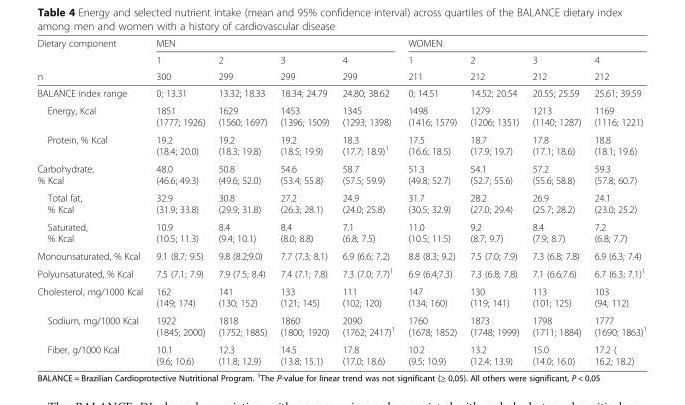table: (36, 37, 645, 366)
table column: (36, 37, 148, 366), (335, 37, 400, 366), (210, 37, 273, 366), (524, 37, 587, 366), (148, 37, 210, 366), (273, 37, 335, 366), (400, 37, 462, 366), (462, 37, 524, 366), (587, 37, 645, 366)
table column header: (36, 37, 645, 84)
table row: (36, 101, 645, 130), (36, 130, 645, 159), (36, 159, 645, 188), (36, 188, 645, 217), (36, 217, 645, 246), (36, 282, 645, 311), (36, 311, 645, 340), (36, 340, 645, 366), (36, 263, 645, 282), (36, 50, 645, 67), (36, 67, 645, 84), (36, 84, 645, 101), (36, 246, 645, 263), (36, 37, 645, 50)
table spanning cell: (36, 37, 148, 84), (148, 37, 400, 50), (400, 37, 645, 50), (335, 50, 400, 84), (210, 50, 273, 84), (524, 50, 587, 84), (148, 50, 210, 84), (273, 50, 335, 84), (400, 50, 462, 84), (462, 50, 524, 84), (587, 50, 645, 84)
